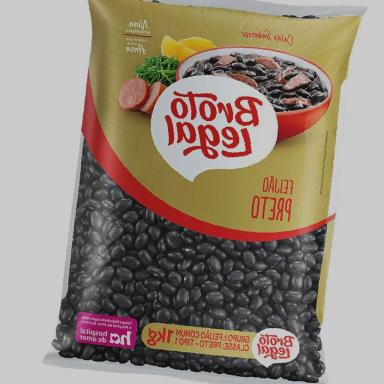beans package: (45, 0, 364, 382)
